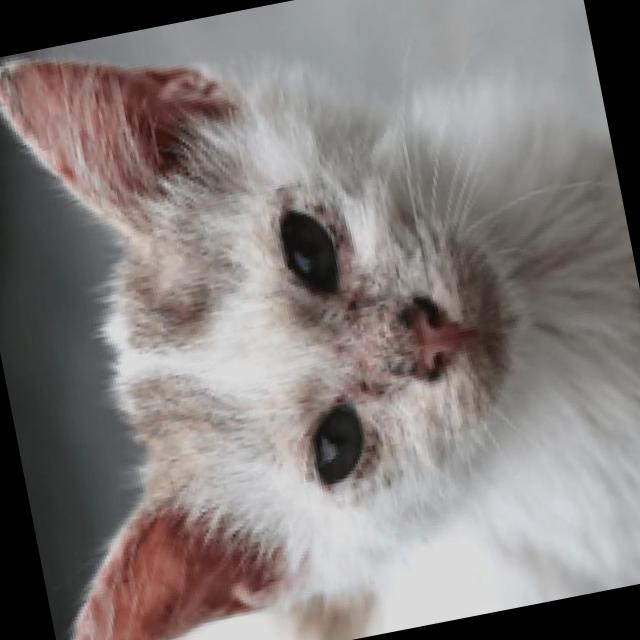Mange: (333, 288, 412, 419), (46, 136, 86, 202), (312, 213, 357, 263)
